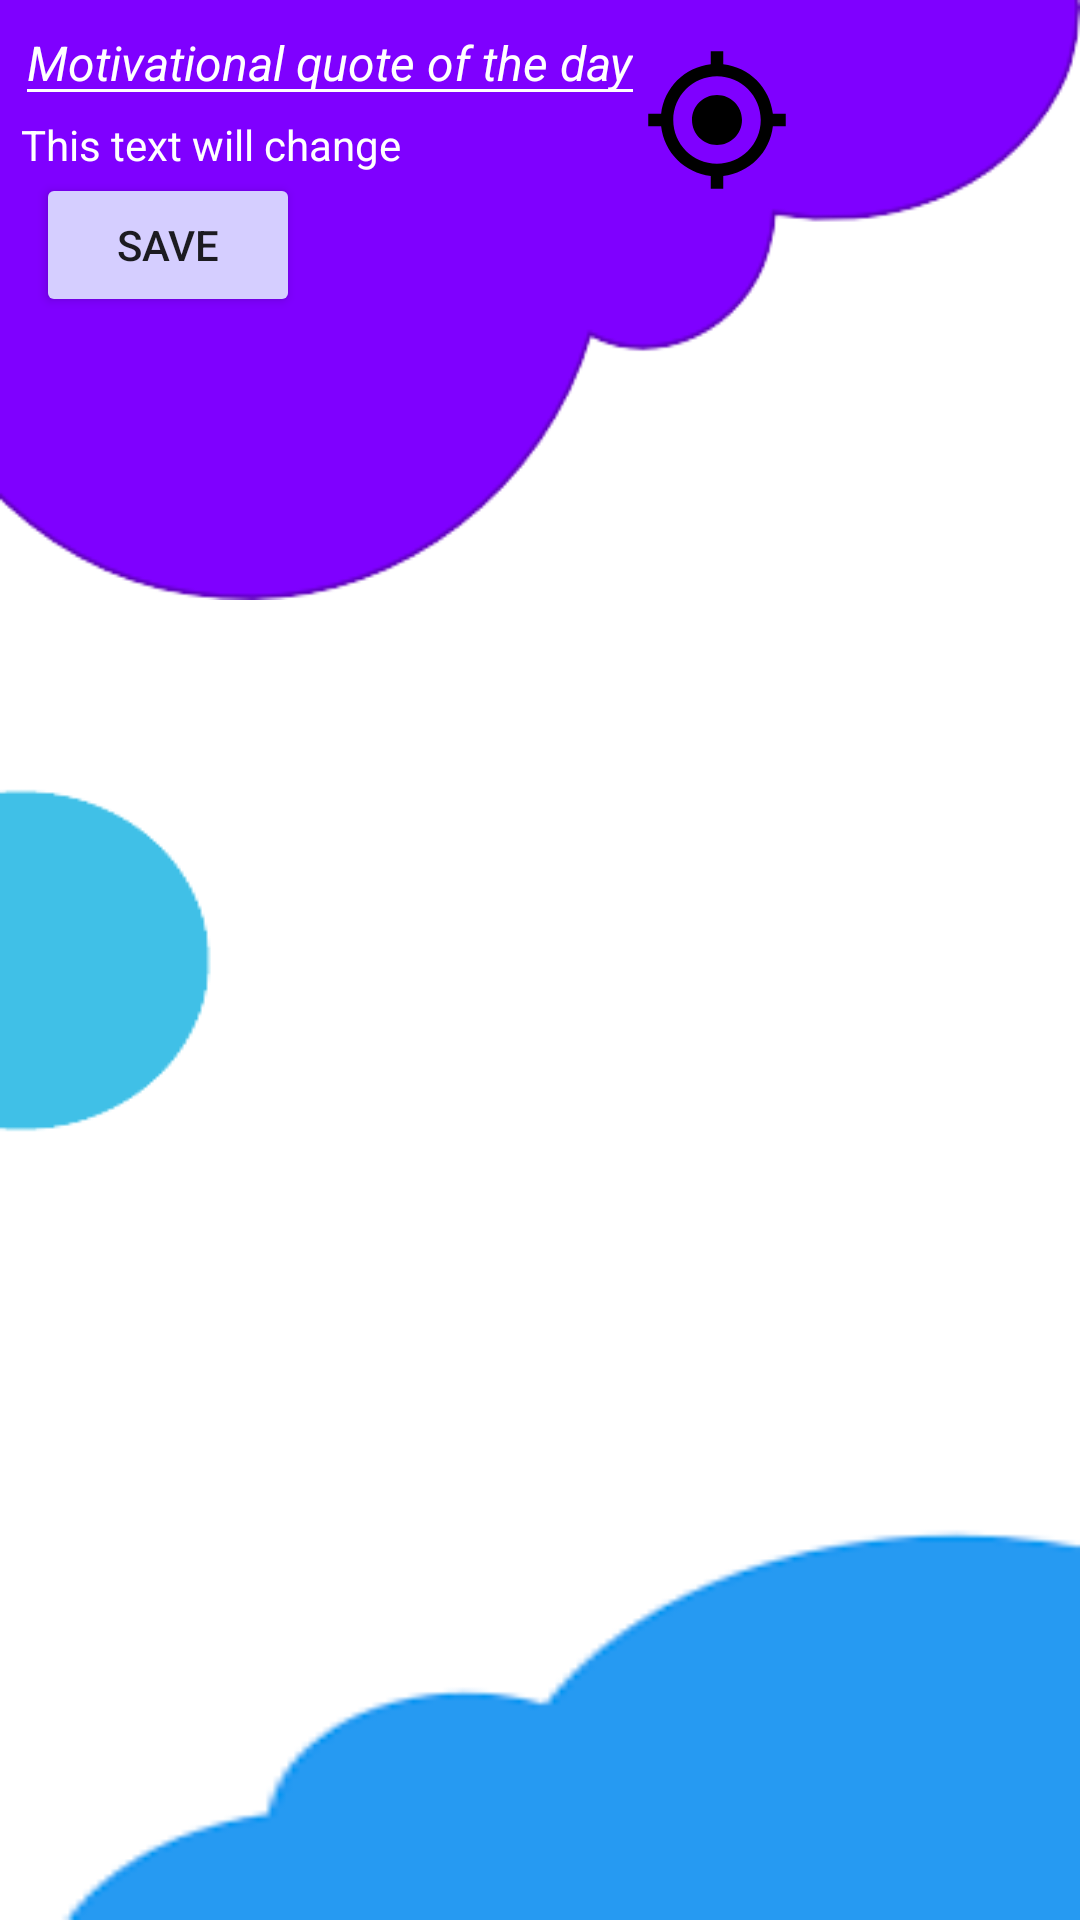

Screen size 1080px x 1920px. Icon name, then its box in pixels as Rect(x1, y1, x2, y2):
gps fixed: Rect(648, 51, 786, 189)
